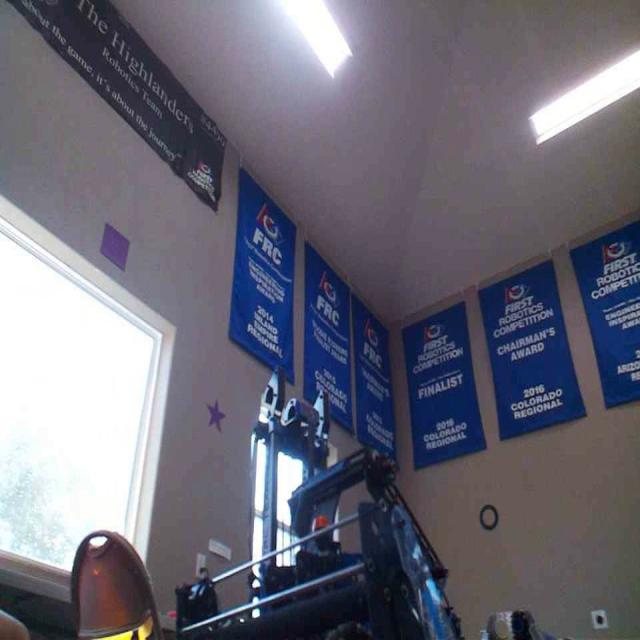ring_black: (478, 503, 497, 529)
square_purple: (98, 222, 131, 271)
star_purple: (206, 397, 226, 432)
